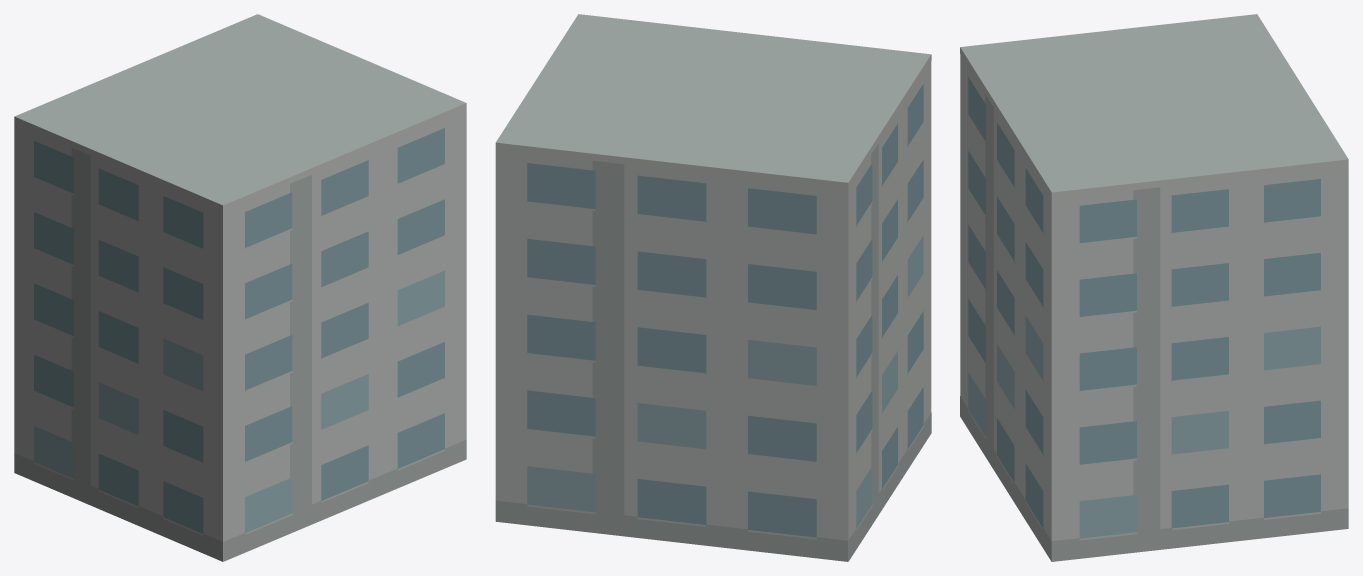
Rendered from survey-upis-32686879.glb.
3 renders of one model, left to right at view 1: azimuth 30°, elevation 25°; view 2: azimuth 150°, elevation 25°; view 3: azimuth 270°, elevation 25°, orthographic. The views are drawn at different scales.
Parts seen in each view (by area): view 1: survey-upis-32686879.tmp; view 2: survey-upis-32686879.tmp; view 3: survey-upis-32686879.tmp.
Part boxes in pixels (<box>): survey-upis-32686879.tmp: <box>14,14,466,561</box>; survey-upis-32686879.tmp: <box>495,14,931,561</box>; survey-upis-32686879.tmp: <box>960,14,1348,561</box>.
Size of the model in its own units: 13.69 by 13.2 by 12.6.
